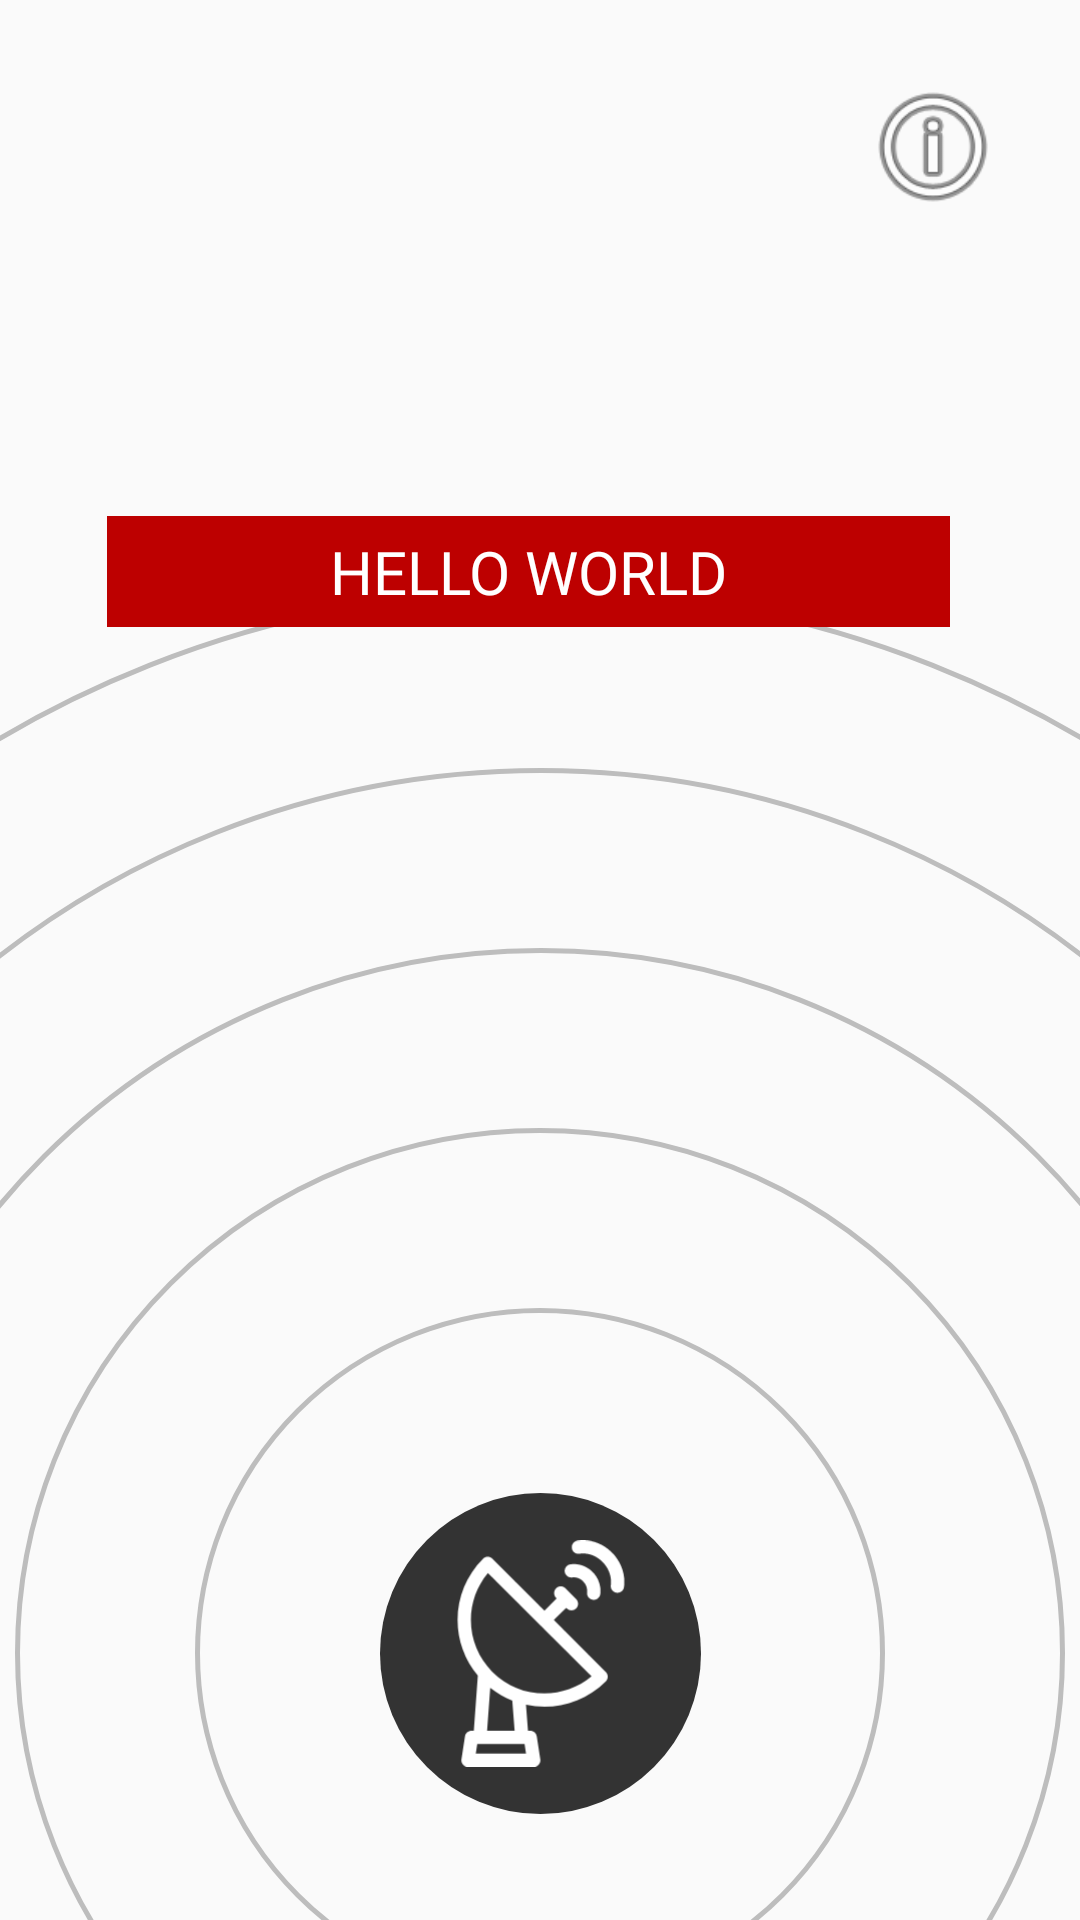

Icon click points for this 1080*1920 phone screenshot, format (x,y):
info details: (933,147)
radar: (540,1653)
